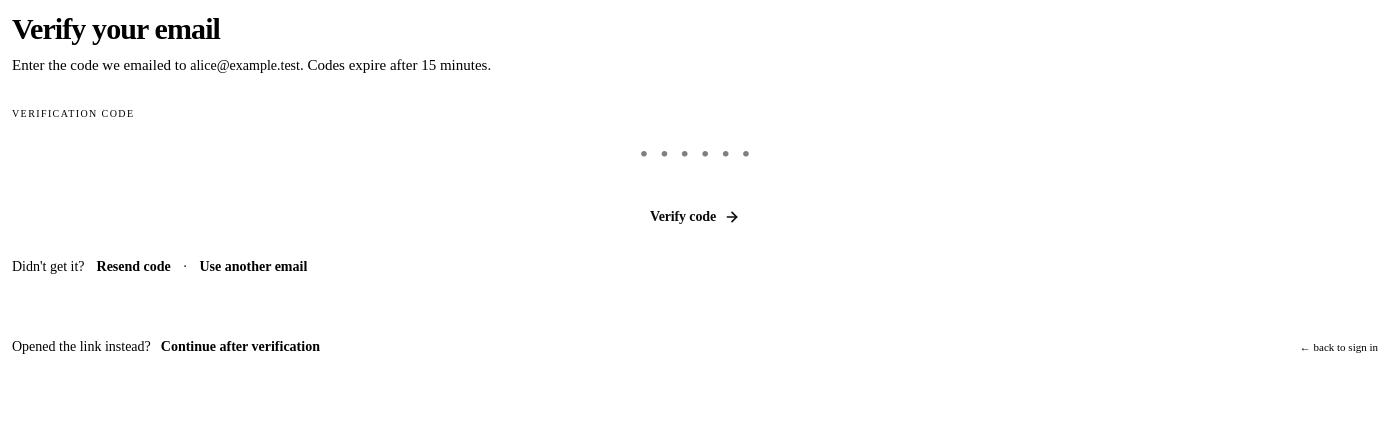
Scenario: auth forms › resends the code for a known address and allows retrying network failures
Click the button "Resend code".
click(134, 267)  # box [90,251,177,283]
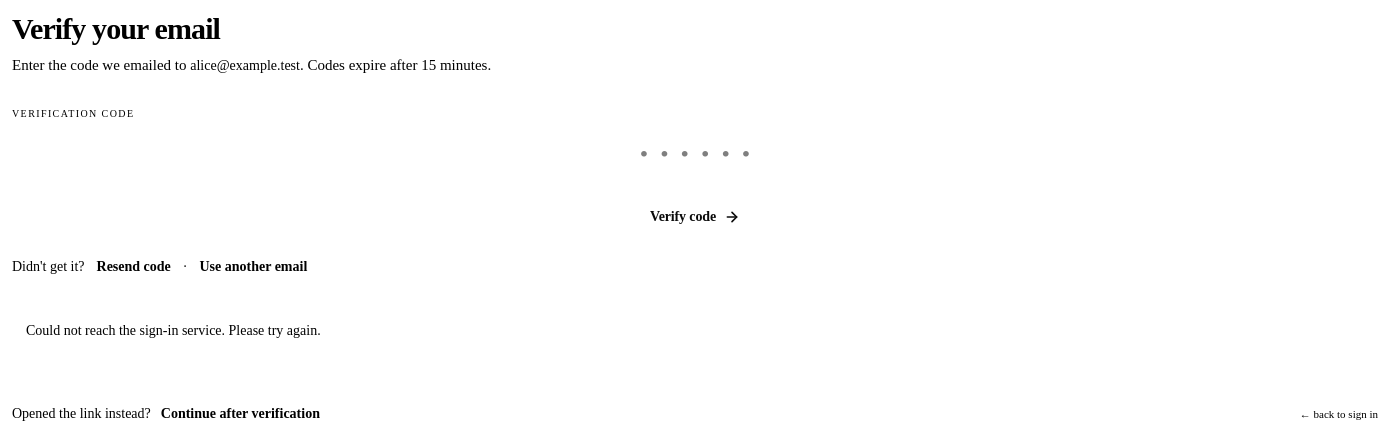
Now the text "Could not reach the sign-in service. Please try again." is shown, box [26,323,321,338]
Click the button "Resend code".
click(134, 267)  # box [90,251,177,283]
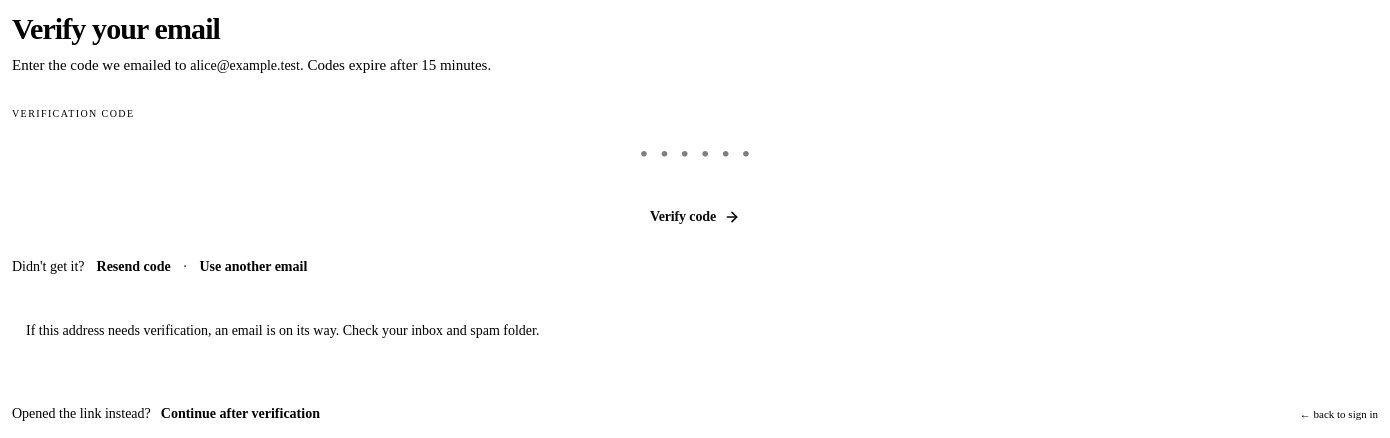
Now the text "an email is on its way" is shown, box [26,323,540,338]
